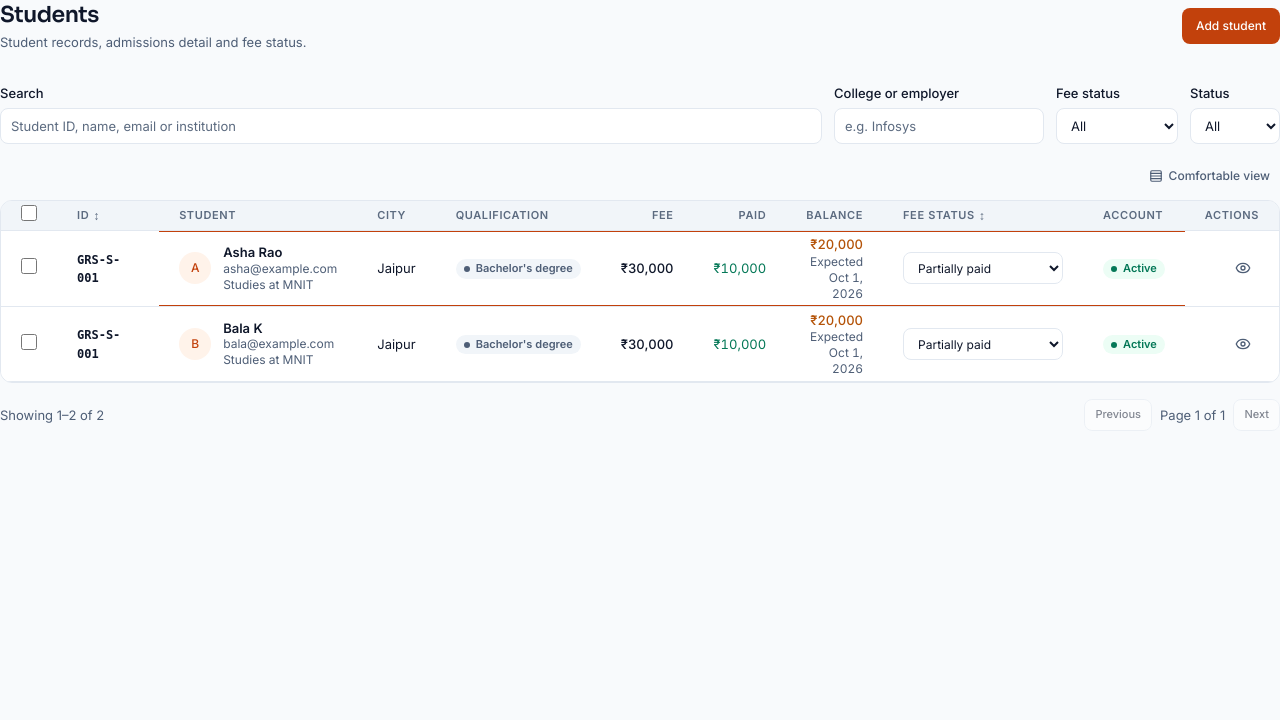
Test: AdminStudentsPage — acting on many students › exports the ticked students and resends their invitations
The width and height of the screenshot is (1280, 720).
Click the checkbox named "Select Asha Rao" at point(29, 266), box [21, 258, 37, 274]
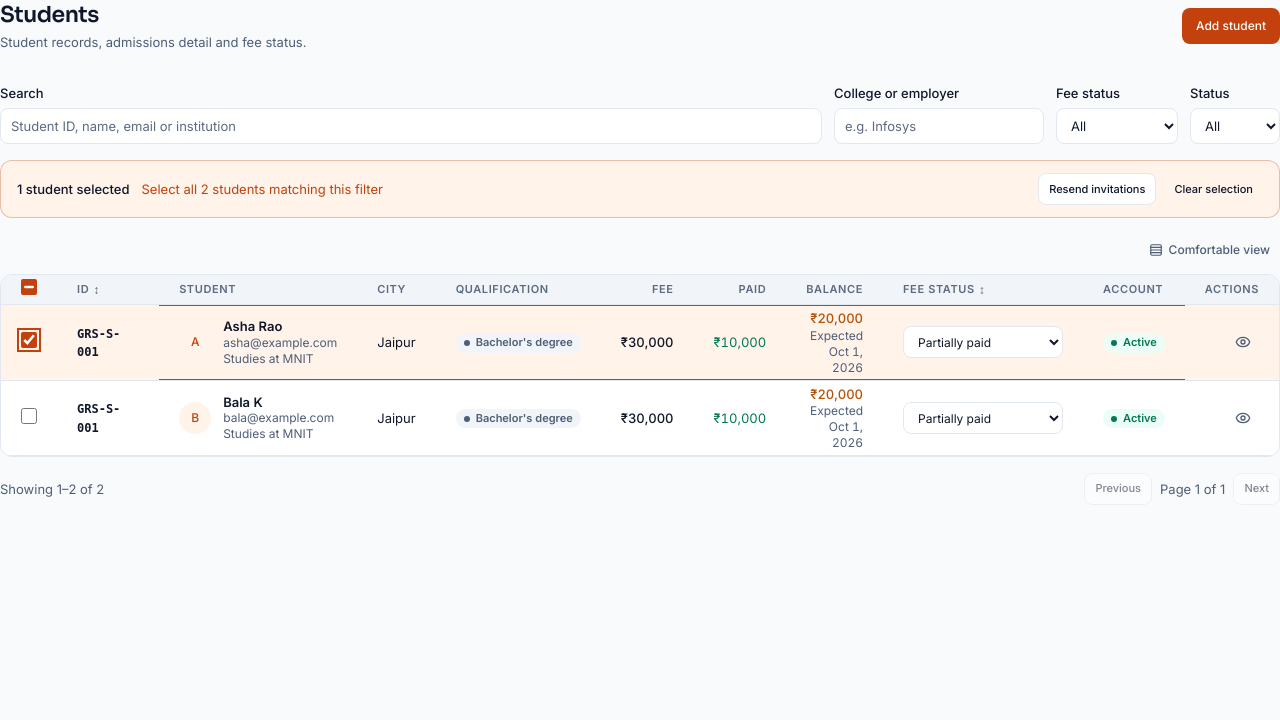
Click the checkbox named "Select Bala K" at point(29, 416), box [21, 408, 37, 424]
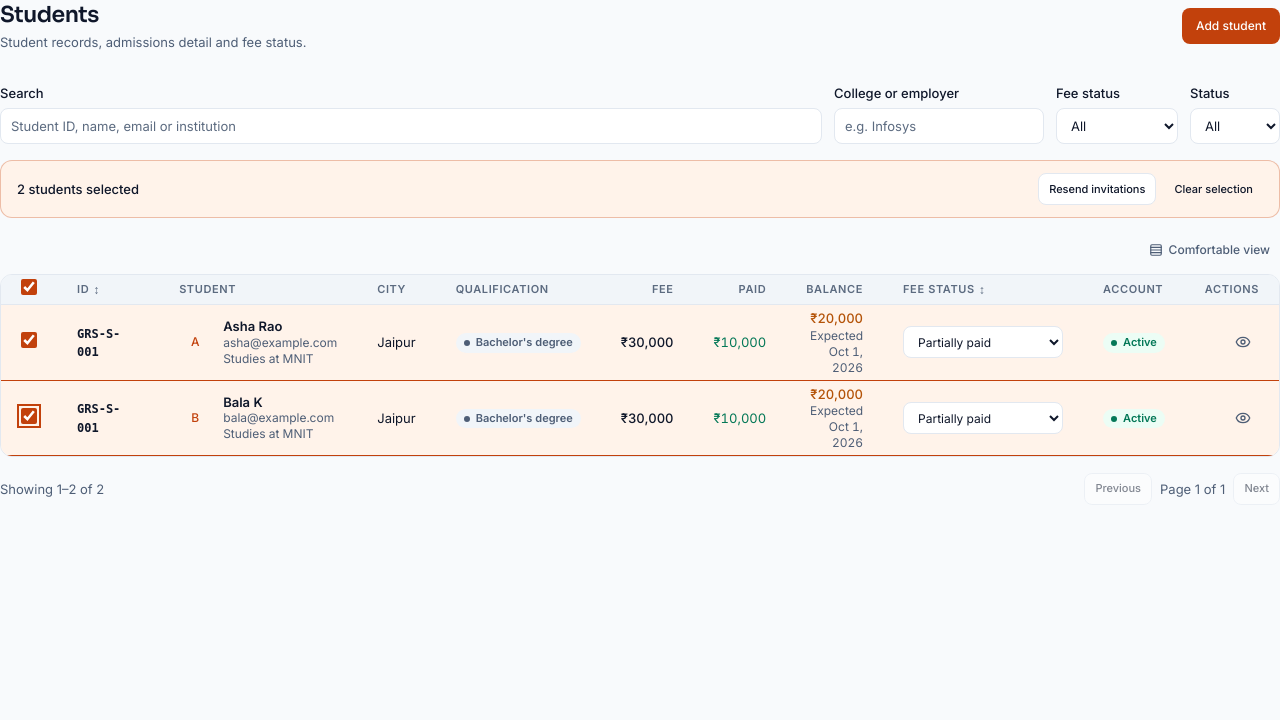
Click the button "Resend invitations" at point(1097, 190), box [1038, 174, 1156, 206]
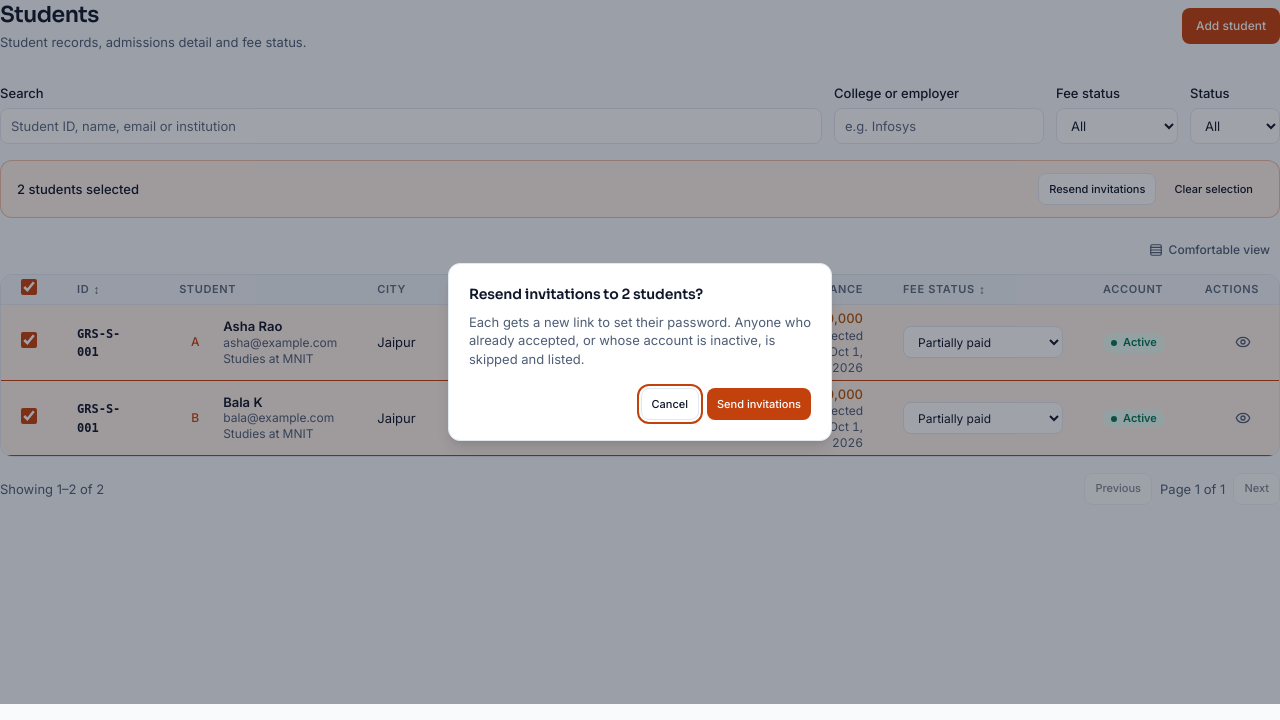
Click the button "Send invitations" at point(759, 404), box [707, 388, 811, 420]
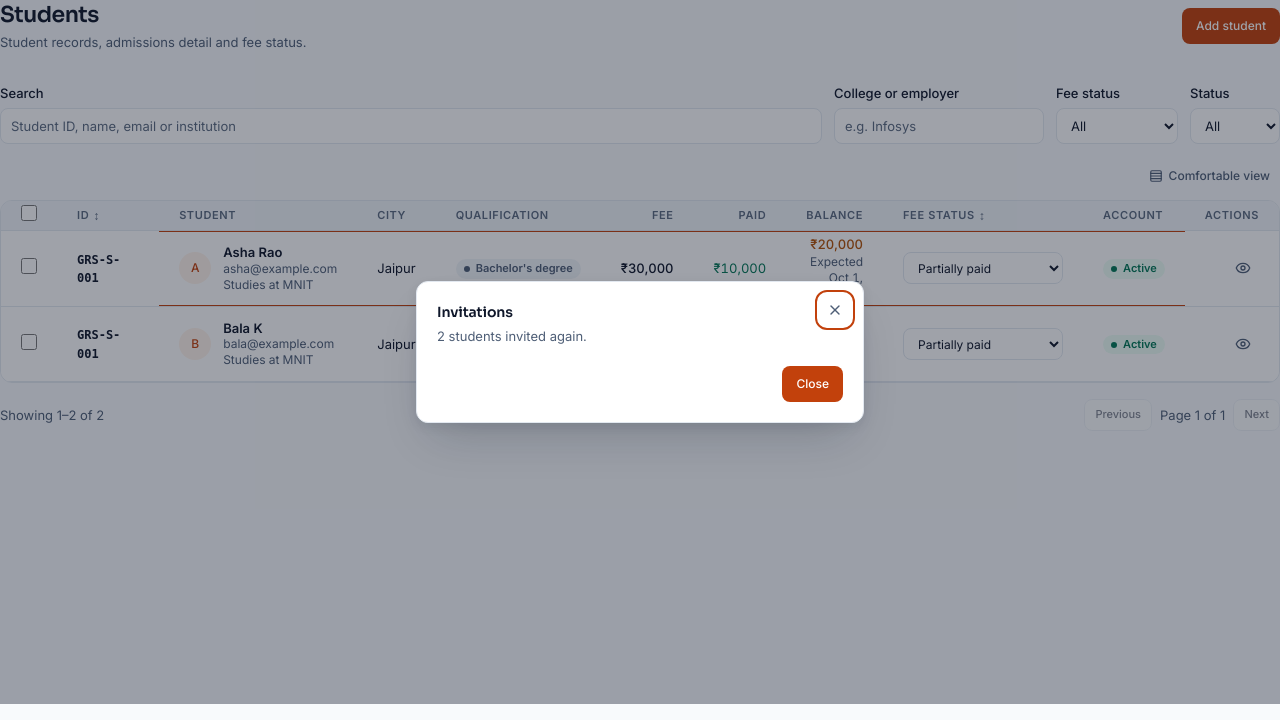
Result: the dialog "Invitations" shows "2 students invited again." at [437, 328, 587, 344]
